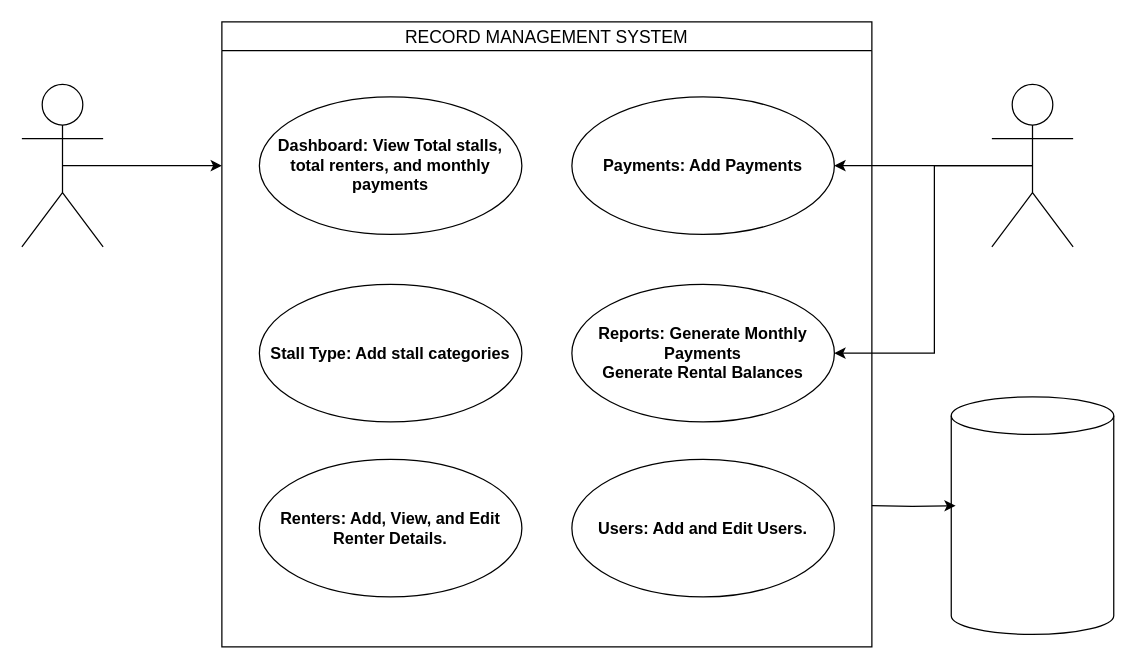
Image size: 1136x669. Some labels were removed from this diagram. The shapes that lost their labels are listed below. From the top down, each one's centre as x and y in pixels, then its label:
the point at 62,165: ADMIN
the point at 1032,165: COLLECTOR
the point at 1032,515: DATABASE
